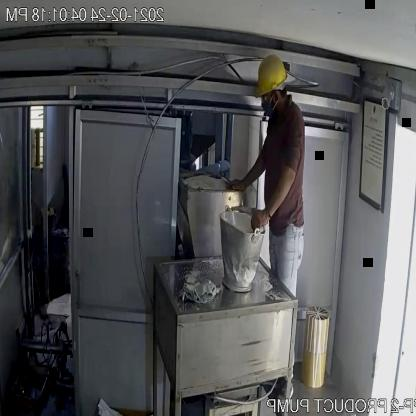helmet: (249, 50, 294, 105)
